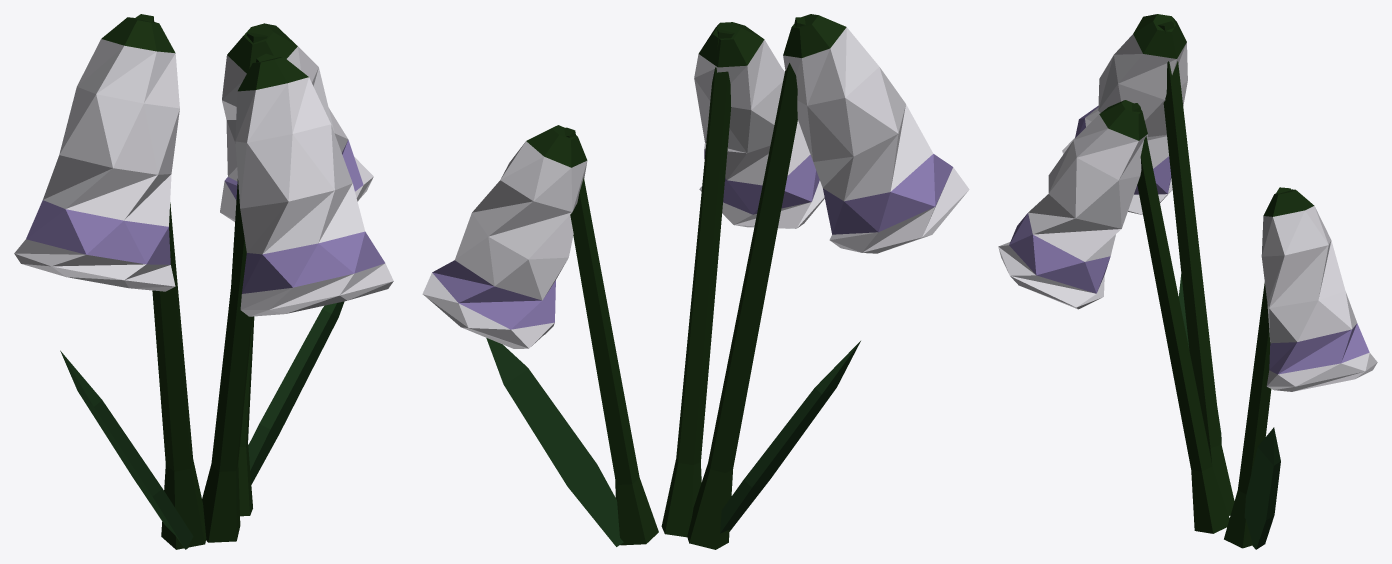
File: snowbell.gltf
3 views of the same model, side by side, from view 1: azimuth 30°, elevation 25°; view 2: azimuth 150°, elevation 25°; view 3: azimuth 270°, elevation 25° (orthographic). The views are drawn at different scales.
Parts seen in each view (by area): view 1: snowbell; view 2: snowbell; view 3: snowbell.
Part boxes in pixels (<box>): snowbell: <box>14,14,393,549</box>; snowbell: <box>422,14,969,549</box>; snowbell: <box>998,14,1377,549</box>.
Bounding box in the file's own units: 0.2171 × 0.2664 × 0.1944.
